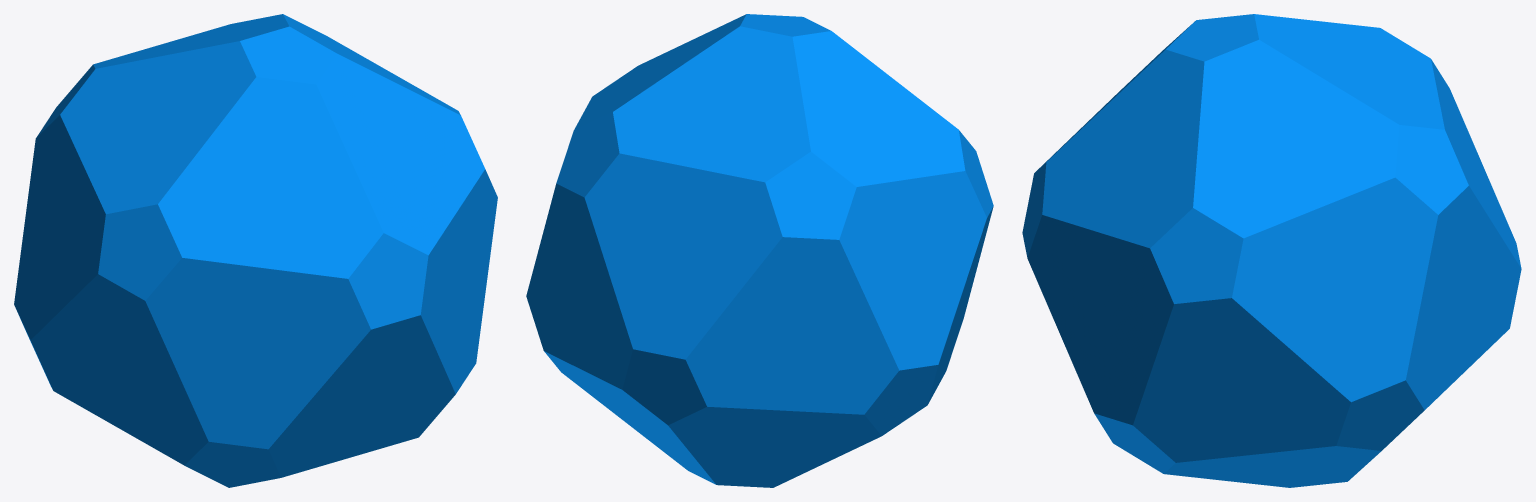
Rendered from GSO_Sphere_Passive.obj.
The picture shows the model from 3 angles, left to right: view 1: azimuth 30°, elevation 25°; view 2: azimuth 150°, elevation 25°; view 3: azimuth 270°, elevation 25°; orthographic projection. The views are drawn at different scales.
Visible parts, largest first — view 1: m_GSO_Gyro_AllAxis_Active_111_Sphere; view 2: m_GSO_Gyro_AllAxis_Active_111_Sphere; view 3: m_GSO_Gyro_AllAxis_Active_111_Sphere.
Boxes of the visible parts, bbox=[...] form: m_GSO_Gyro_AllAxis_Active_111_Sphere: bbox=[14, 14, 497, 487]; m_GSO_Gyro_AllAxis_Active_111_Sphere: bbox=[526, 14, 993, 487]; m_GSO_Gyro_AllAxis_Active_111_Sphere: bbox=[1022, 14, 1521, 487].
Size of the model in its own units: 0.6188 by 0.64 by 0.6444.
